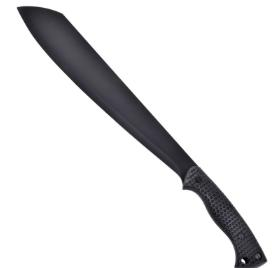MACHETTE: (0, 6, 269, 268)
